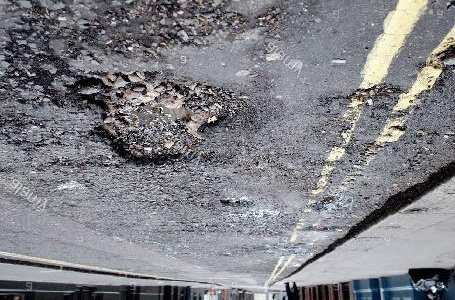pothole: (63, 69, 252, 171), (218, 197, 251, 208)
